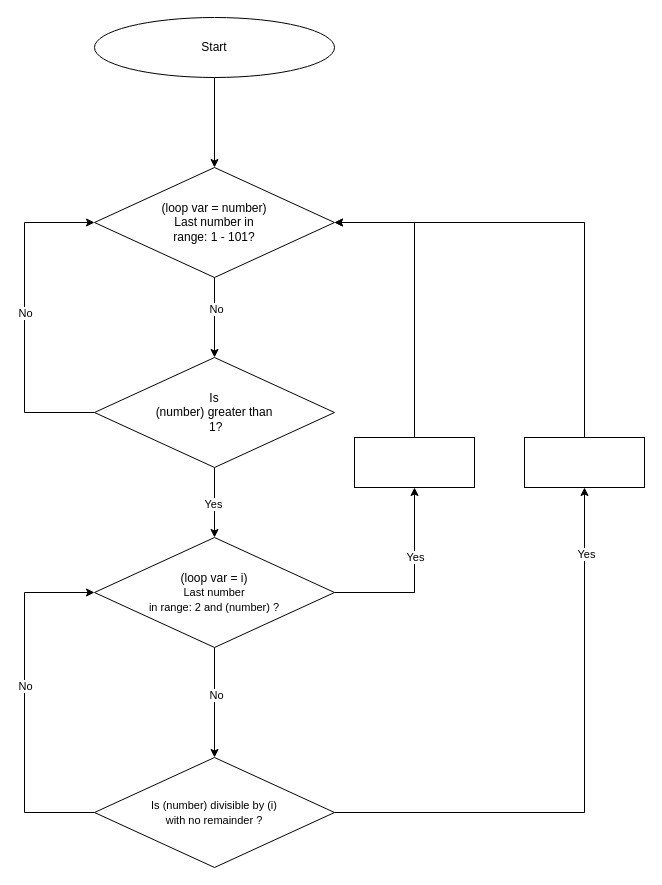
The diagram is 662 pixels wide and 885 high, and some of its shapes have lost their labels. Each missing label, with the box of its shape:
Break: (524, 436, 644, 488)
else block: (number) is a prime Print to screen: (354, 436, 474, 488)
